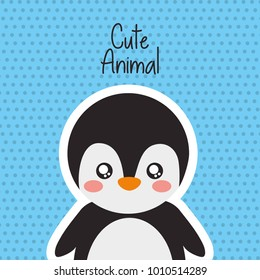animal: (58, 83, 213, 263)
